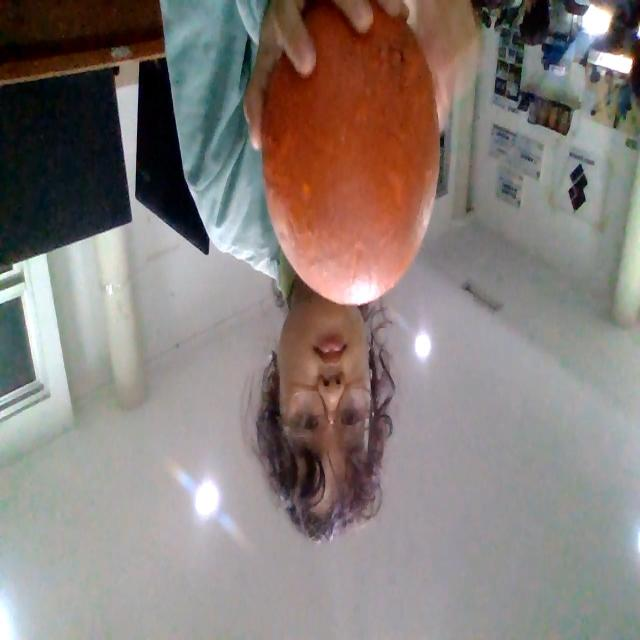ball: (260, 2, 440, 308)
